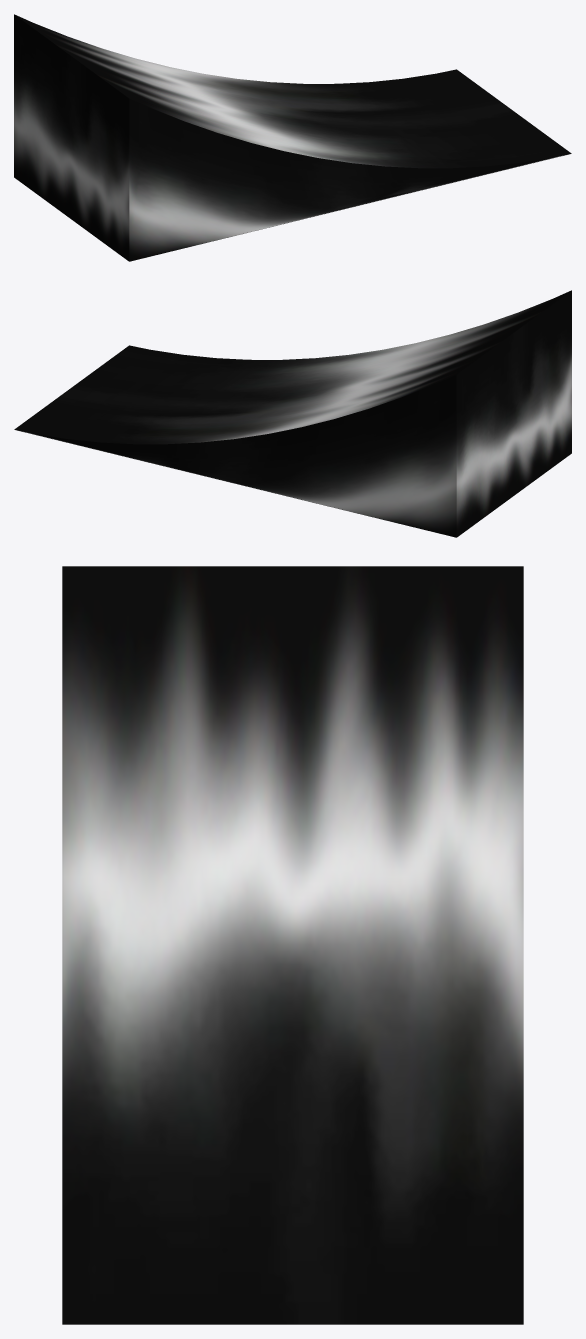
Rendered from huaban_02.FBX.
The picture shows the model from 3 angles, top to bottom: view 1: azimuth 30°, elevation 25°; view 2: azimuth 150°, elevation 25°; view 3: azimuth 270°, elevation 25°; orthographic projection. The views are drawn at different scales.
Parts seen in each view (by area): view 1: huaban_02; view 2: huaban_02; view 3: huaban_02.
Boxes of the visible parts, <box> form: huaban_02: <box>14,14,571,261</box>; huaban_02: <box>14,290,571,537</box>; huaban_02: <box>62,566,523,1324</box>.
Bounding box in the file's own units: 56.1 × 19.77 × 25.3.
